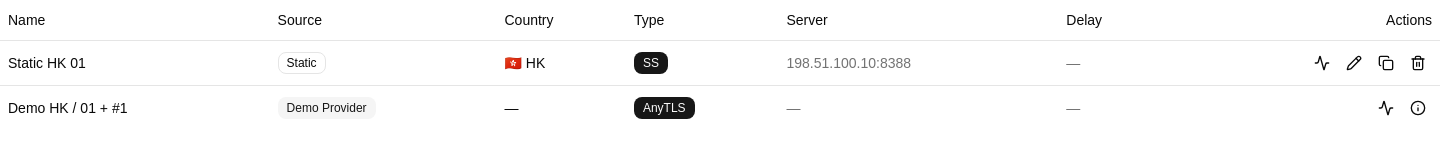
it: ProxyList (unified static + subscription nodes) › tests a static node through the global runtime delay endpoint
What coordinates should you click on to do the following:
click the button titled "Test Delay" in the row of "Static HK 01"
I would click on:
 (1322, 62)
Its box is [1308,48,1336,76].
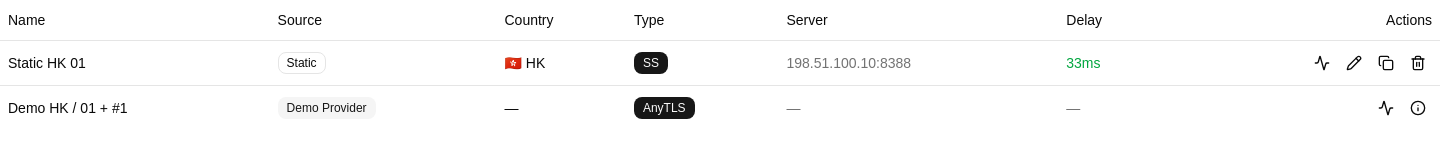
Expected: the text "33ms" is shown, [1066,54,1101,70]
